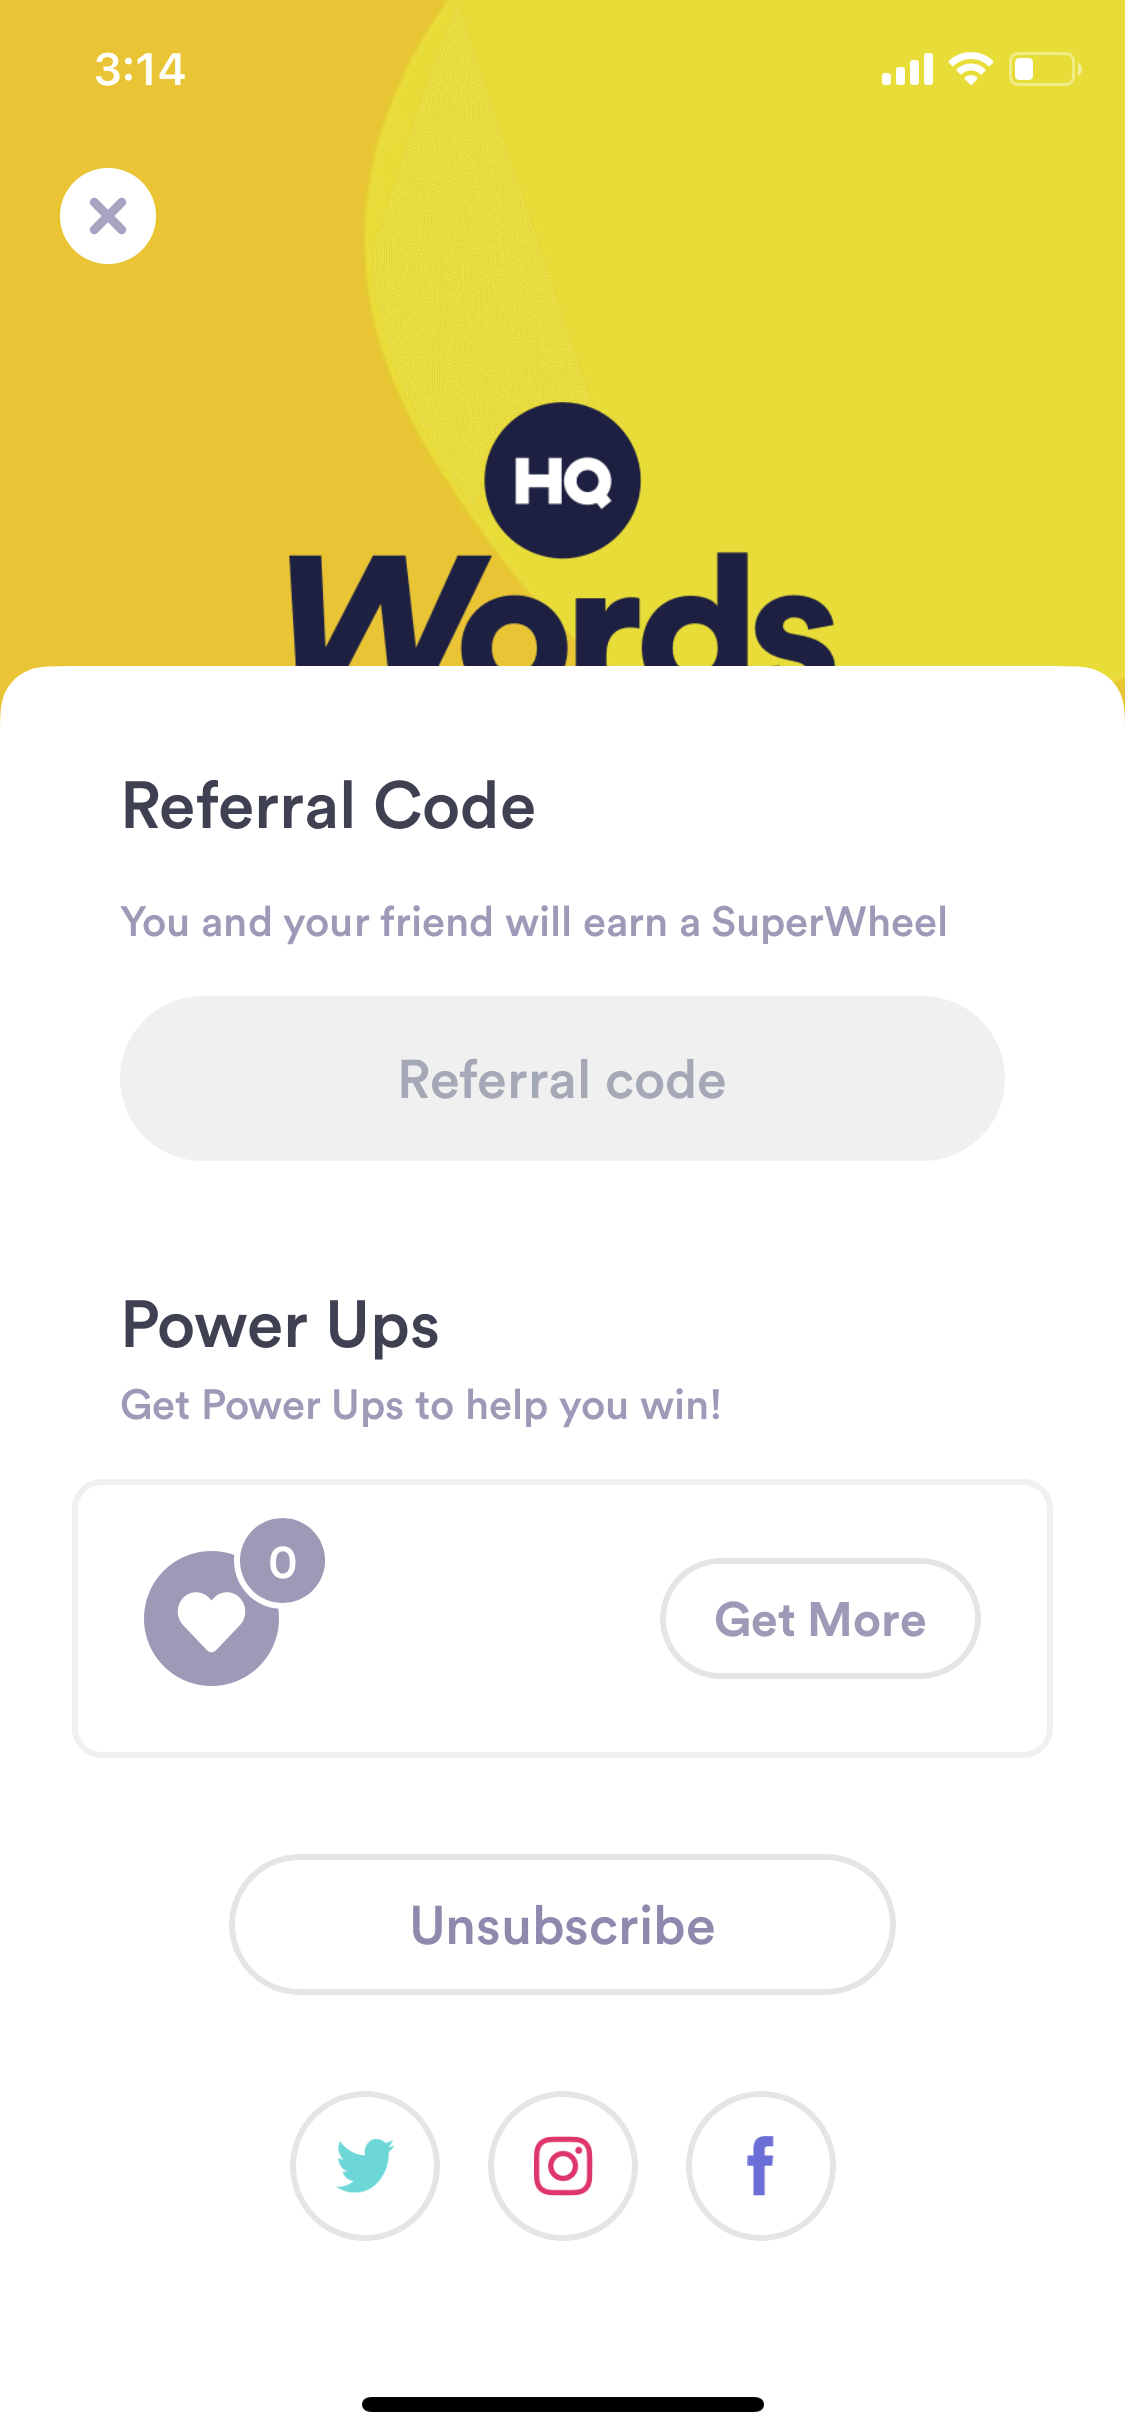Buttons: (113, 990, 1007, 1192), (218, 1838, 907, 2013), (653, 1550, 1013, 1696), (272, 2076, 457, 2253), (479, 2077, 654, 2253), (679, 2080, 848, 2254), (45, 151, 183, 284)
